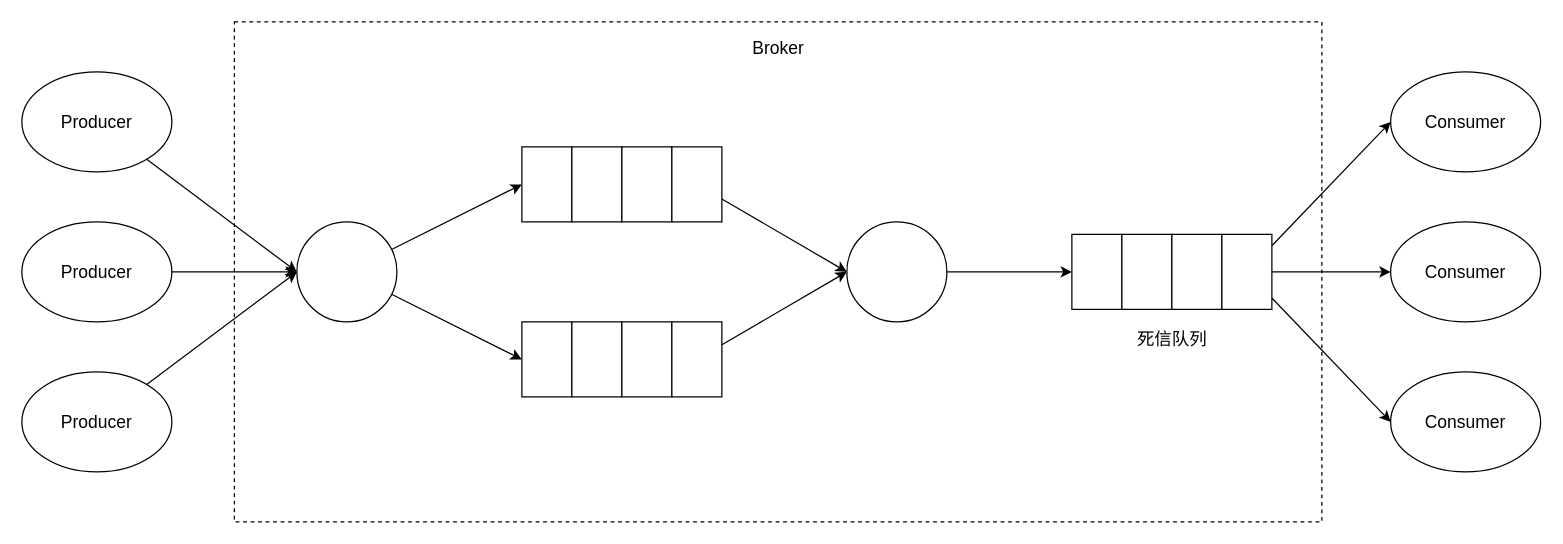
Image size: 1563x544. Some labels were removed from this diagram. The centre of each missing label's shape, as x and y in pixels:
"DLX" belongs at (896,271).
"exchange" belongs at (346,271).
